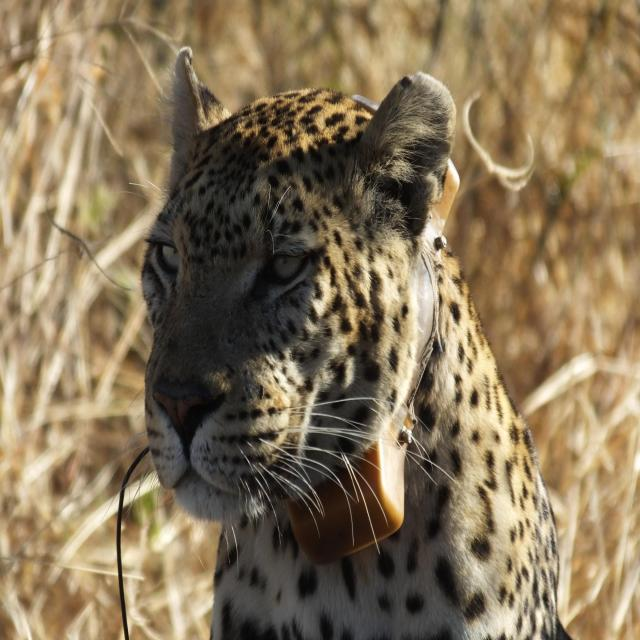Leopard: (114, 23, 597, 640)
